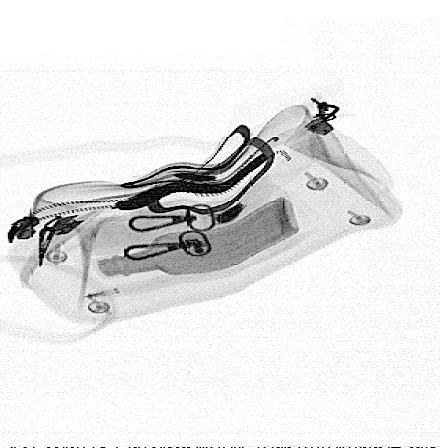Gun: (115, 151, 271, 212)
